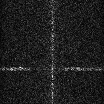wifi: (1, 67, 104, 71)
